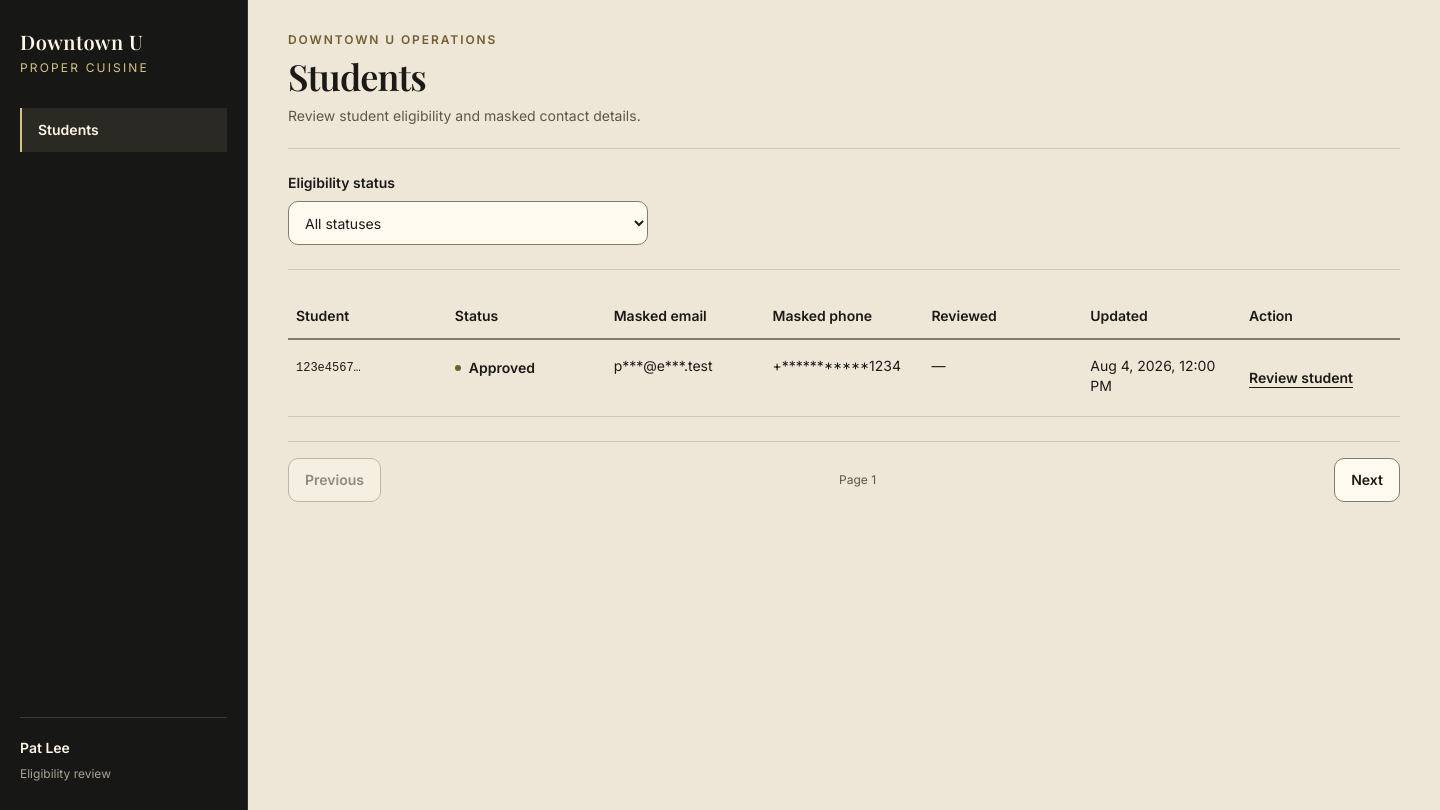
Scenario: read-only list pages › renders students in equivalent desktop and mobile records, filters, and paginates without exposing cursors
The width and height of the screenshot is (1440, 810).
Check: the table named "Students" is shown, box x1=288 y1=294 x2=1400 y2=417
Check: the text titled "123e4567-e89b-42d3-a456-426614174000" is shown, box x1=296 y1=361 x2=354 y2=375
Select "Approved" in the dropdown labelled "Eligibility status" at (468, 223), box x1=288 y1=201 x2=648 y2=245
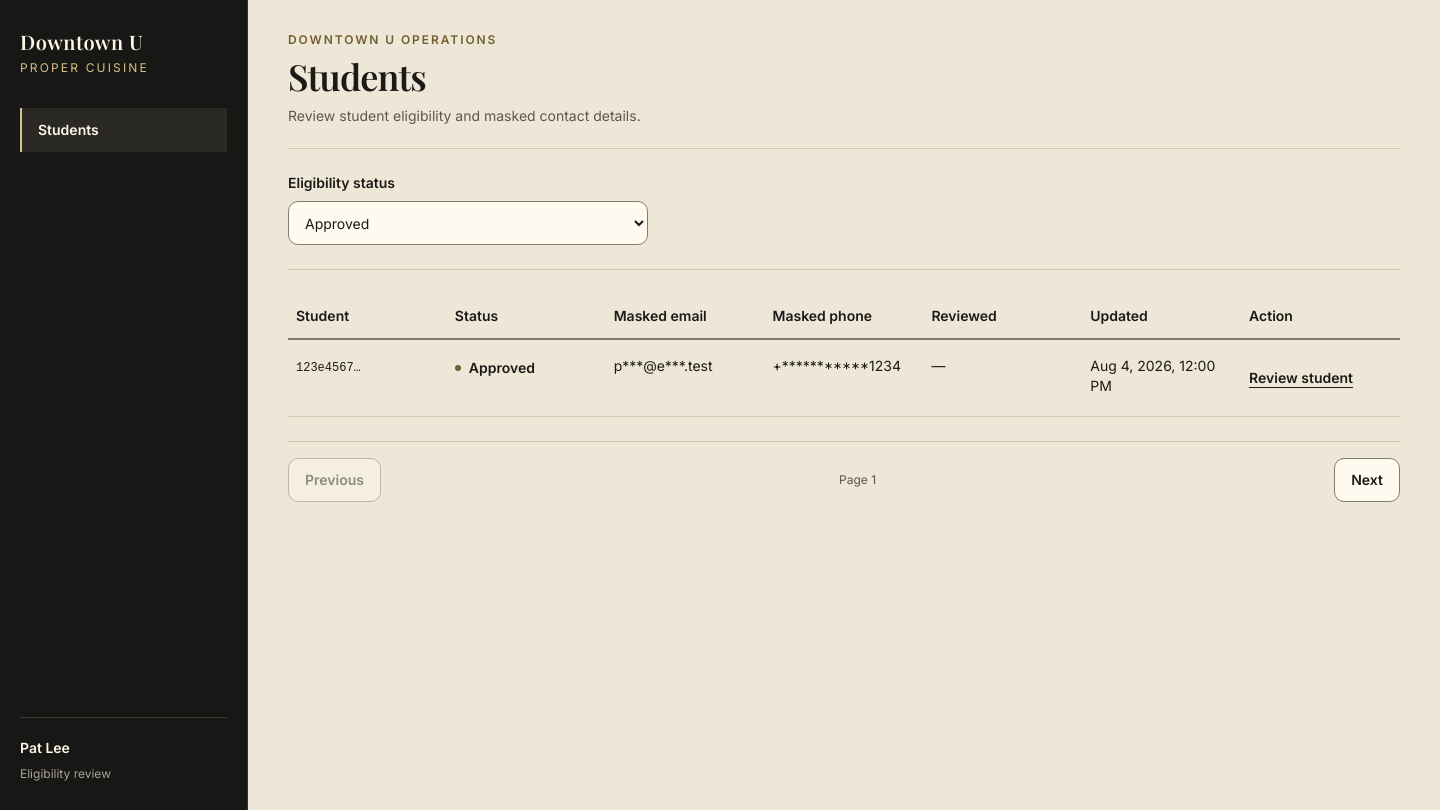
Click the button with aria-label "Next page" at (1367, 480), box x1=1334 y1=458 x2=1400 y2=502
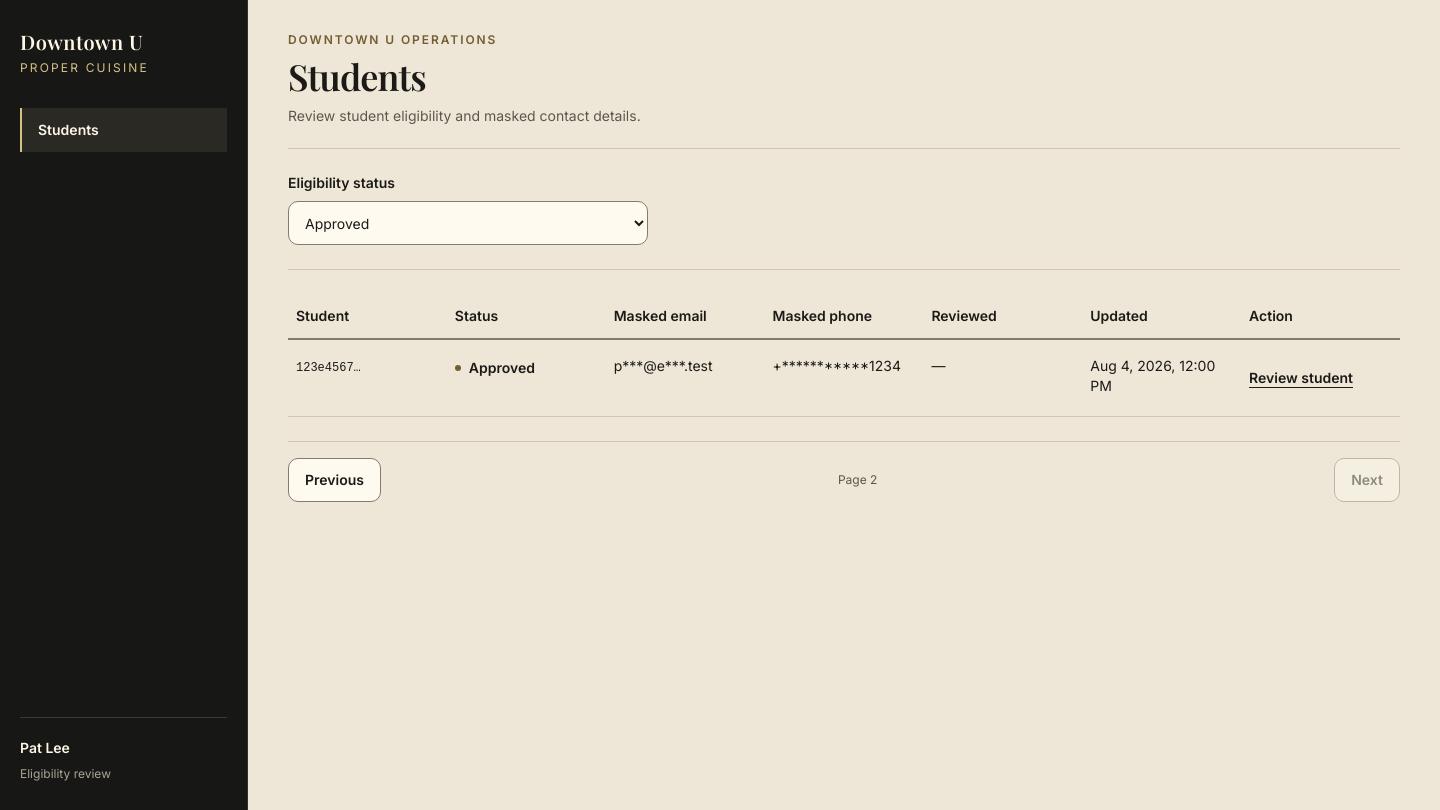
Check: the button with aria-label "Previous page" is enabled, box x1=288 y1=458 x2=381 y2=502
